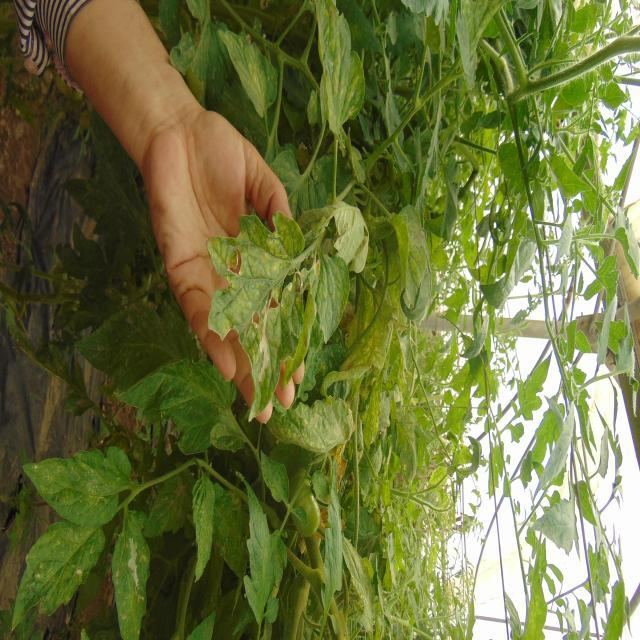Tuta absoluta: (258, 324, 272, 383), (126, 538, 141, 590)
